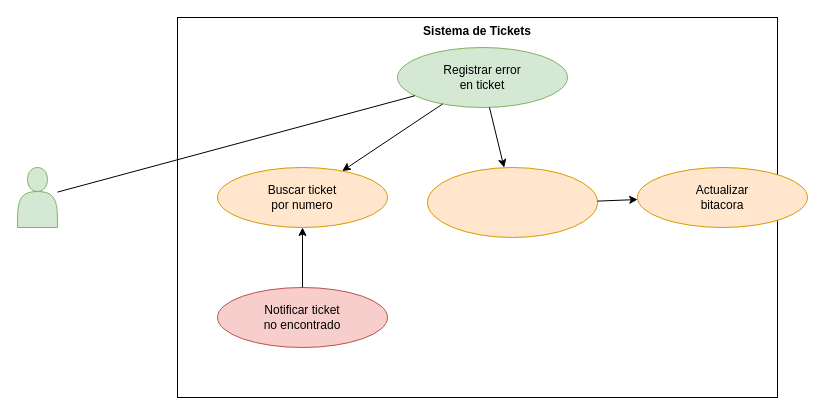
Some shapes in this 825 by 415 pixel diagram are drawn without their labels. The centre of each missing label's shape, as x and y in pixels:
"Ingresar tipo, descripcion e impacto" belongs at point (512, 202).
"Tecnico" belongs at point (37, 197).
